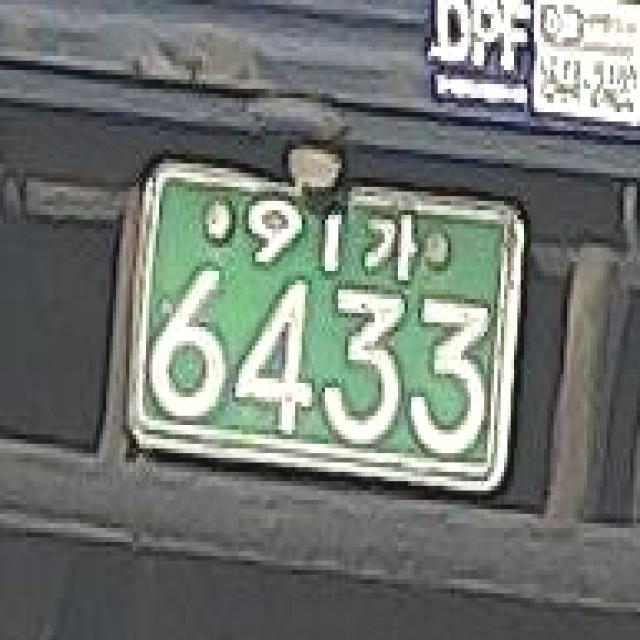illegal_plate: (112, 134, 534, 517)
